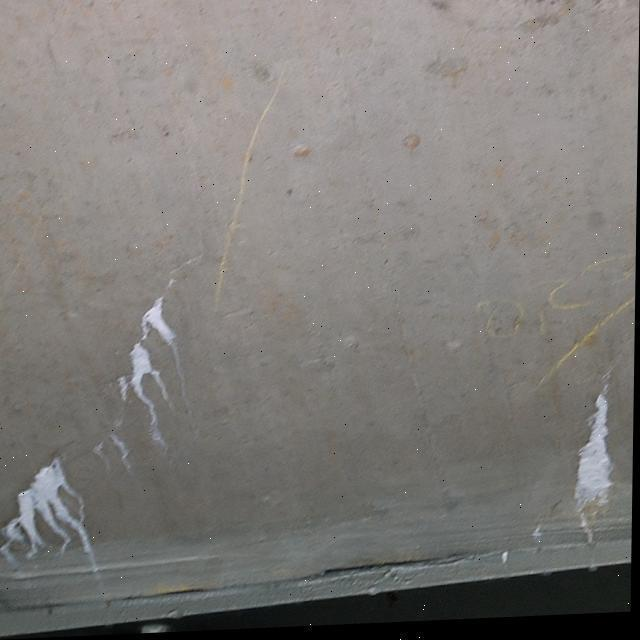D01: (2, 458, 89, 554), (574, 390, 613, 529), (126, 342, 158, 401), (142, 298, 177, 343)
